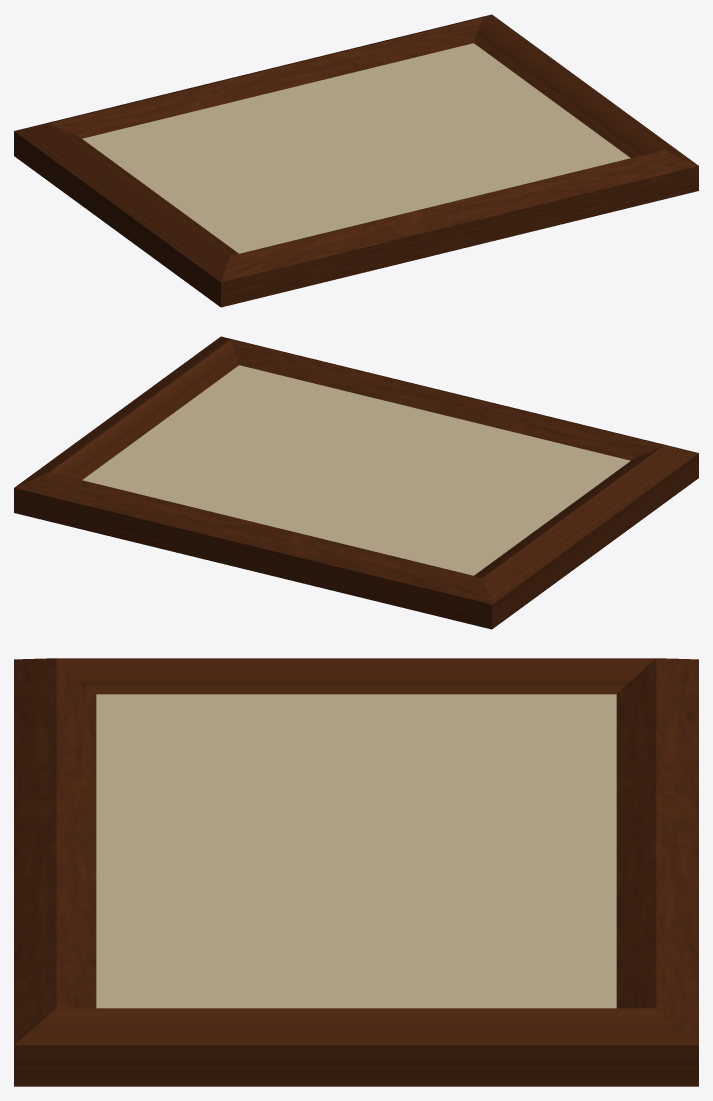
The model's file is marco_fino.fbx.
3 views of the same model, one above another, from view 1: azimuth 30°, elevation 25°; view 2: azimuth 150°, elevation 25°; view 3: azimuth 270°, elevation 25° (orthographic). The views are drawn at different scales.
Parts seen in each view (by area): view 1: Cube; view 2: Cube; view 3: Cube.
Boxes of the visible parts, x1=… form: Cube: x1=14, y1=14, x2=698, y2=307; Cube: x1=14, y1=336, x2=698, y2=629; Cube: x1=14, y1=658, x2=698, y2=1086.
Size of the model in its own units: 150 by 200 by 14.64.
